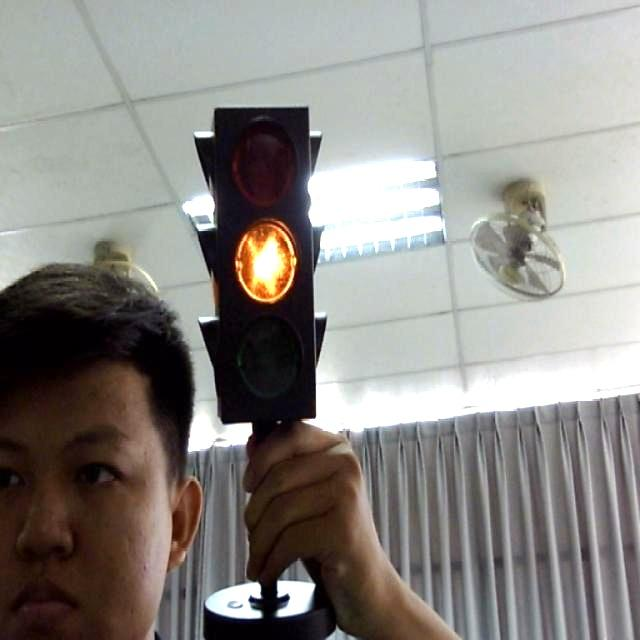Yellow: (194, 98, 344, 430)
